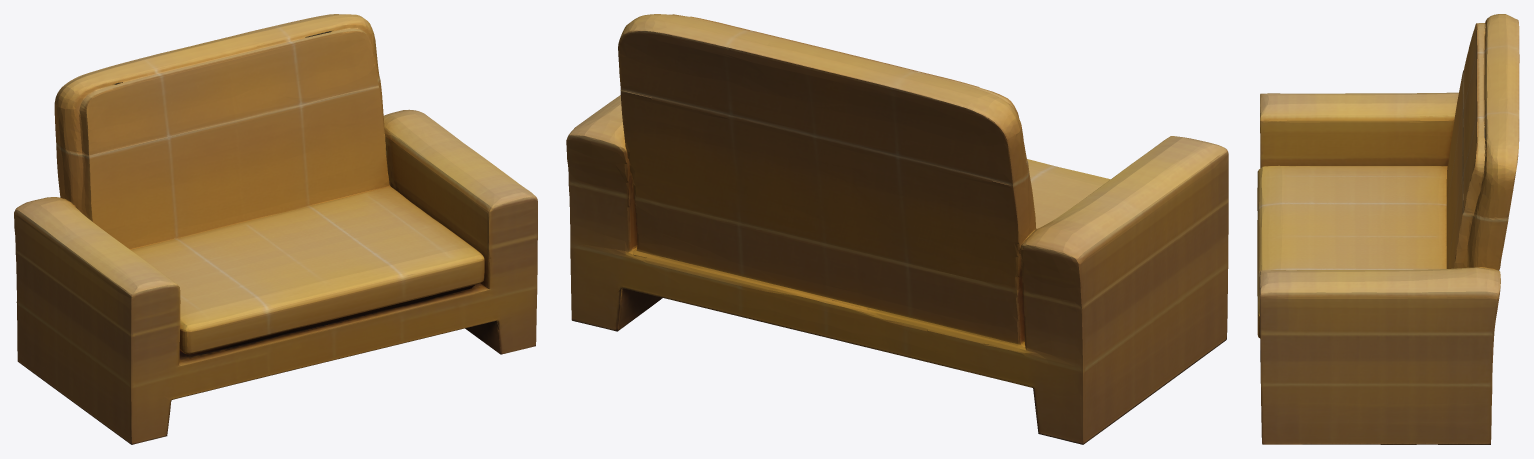
Rendered from sofa_2.glb.
3 renders of one model, left to right at view 1: azimuth 30°, elevation 25°; view 2: azimuth 150°, elevation 25°; view 3: azimuth 270°, elevation 25°, orthographic. The views are drawn at different scales.
Visible parts, largest first — view 1: world; view 2: world; view 3: world.
Boxes of the visible parts, x1,y1,x2,y2 form: world: [14, 14, 537, 444]; world: [566, 14, 1228, 444]; world: [1257, 14, 1519, 444].
Size of the model in its own units: 0.7498 by 0.4648 by 0.4144.
1 material, 1 textured.
